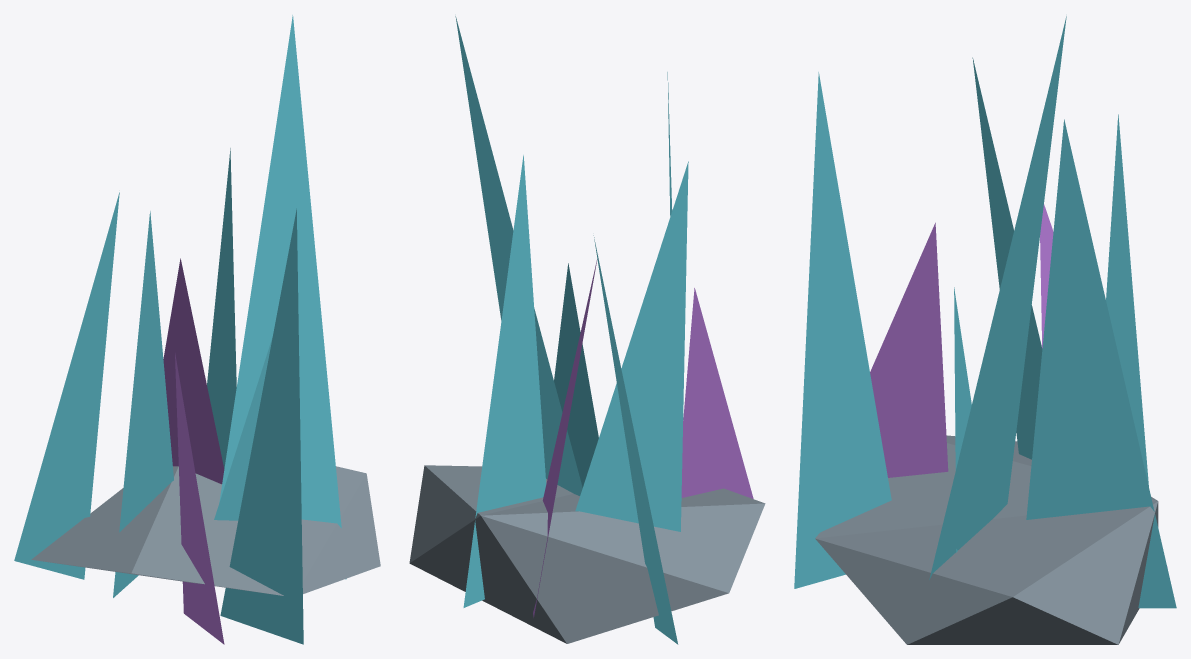
File: Crystal_04_LOD2.fbx
The picture shows the model from 3 angles, left to right: view 1: azimuth 30°, elevation 25°; view 2: azimuth 150°, elevation 25°; view 3: azimuth 270°, elevation 25°; orthographic projection. The views are drawn at different scales.
Parts seen in each view (by area): view 1: Crystal_04_LOD2; view 2: Crystal_04_LOD2; view 3: Crystal_04_LOD2.
Boxes of the visible parts, x1,y1,x2,y2 form: Crystal_04_LOD2: (14, 15, 380, 644); Crystal_04_LOD2: (409, 16, 765, 644); Crystal_04_LOD2: (794, 16, 1176, 644).
Size of the model in its own units: 163 by 266 by 143.
